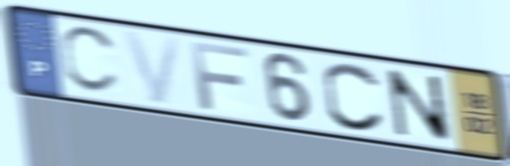6: (262, 52, 314, 124)
C: (320, 59, 388, 135), (58, 25, 122, 97)
F: (187, 39, 252, 114)
N: (383, 66, 456, 146)
V: (119, 27, 185, 107)
